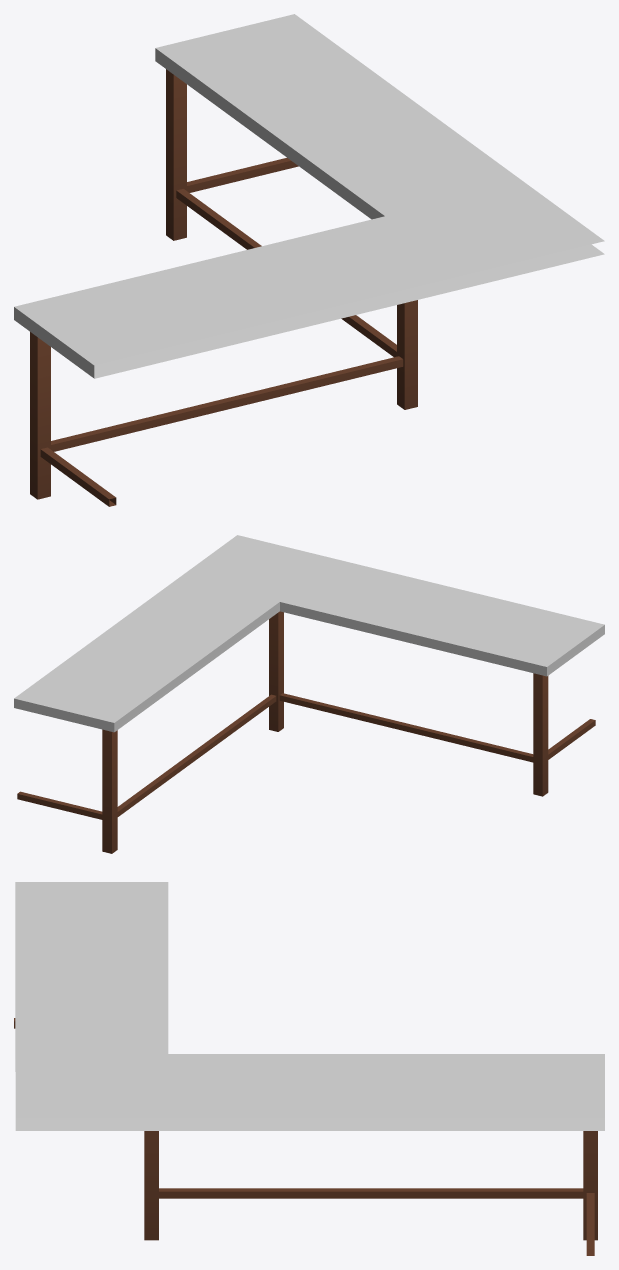
File: MejaKantin.fbx
3 views of the same model, one above another, from view 1: azimuth 30°, elevation 25°; view 2: azimuth 150°, elevation 25°; view 3: azimuth 270°, elevation 25° (orthographic). The views are drawn at different scales.
Parts seen in each view (by area): view 1: MejaKantin1_LOD0; view 2: MejaKantin1_LOD0; view 3: MejaKantin1_LOD0.
Part boxes in pixels (bbox=[...]): MejaKantin1_LOD0: bbox=[14, 14, 604, 506]; MejaKantin1_LOD0: bbox=[14, 535, 604, 853]; MejaKantin1_LOD0: bbox=[14, 882, 604, 1255].
Size of what is drawn, in the model's own units: 274 by 95.3 by 288.
